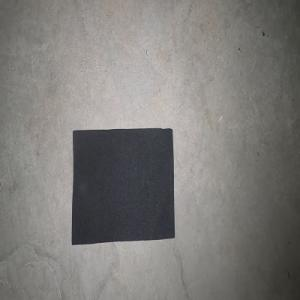PaintChip: (71, 128, 174, 245)
